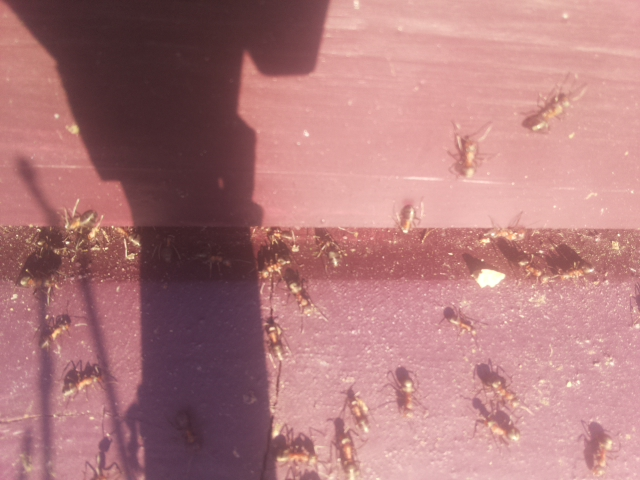ant: (523, 82, 583, 138), (273, 258, 320, 324), (470, 358, 525, 414), (468, 404, 526, 449), (166, 403, 208, 457), (579, 420, 619, 475), (455, 250, 509, 290), (340, 381, 374, 441), (451, 131, 484, 182), (333, 429, 365, 480), (390, 363, 418, 421), (441, 299, 477, 343), (56, 369, 97, 404), (37, 315, 73, 353), (265, 315, 287, 364), (473, 224, 527, 242), (395, 199, 419, 239), (66, 208, 96, 233)
